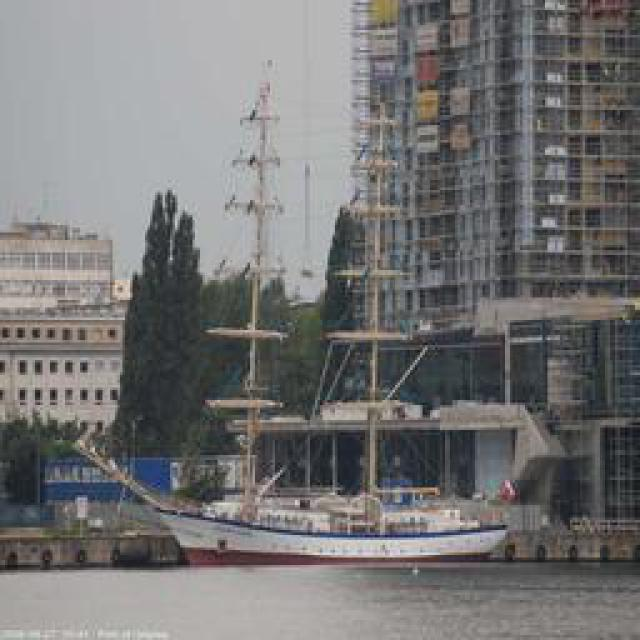Ship: (66, 426, 511, 564)
